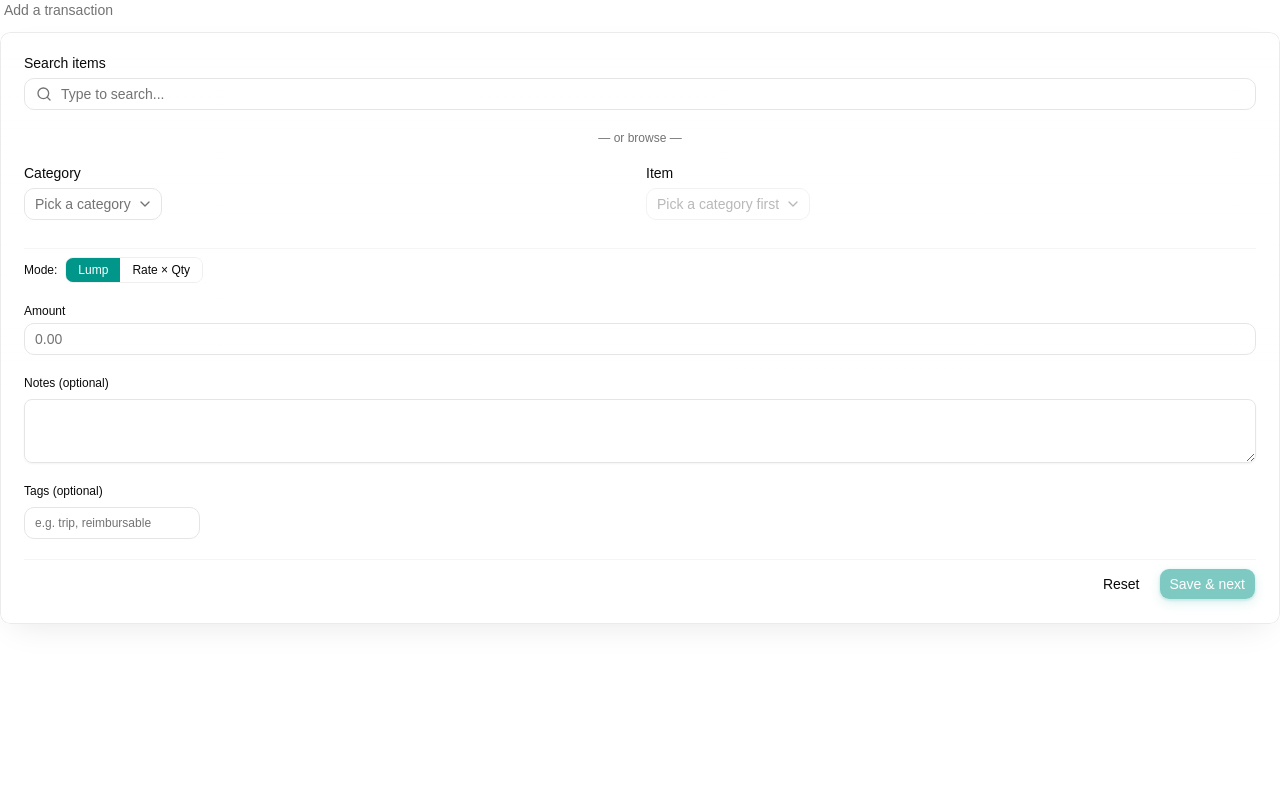
Test case: TransactionEntryForm inline item creation › creates the item, selects it, and focuses the amount without submitting the transaction
Type "Chai" into the field labelled "Search items". click: (640, 94)
box: [24,78,1256,110]
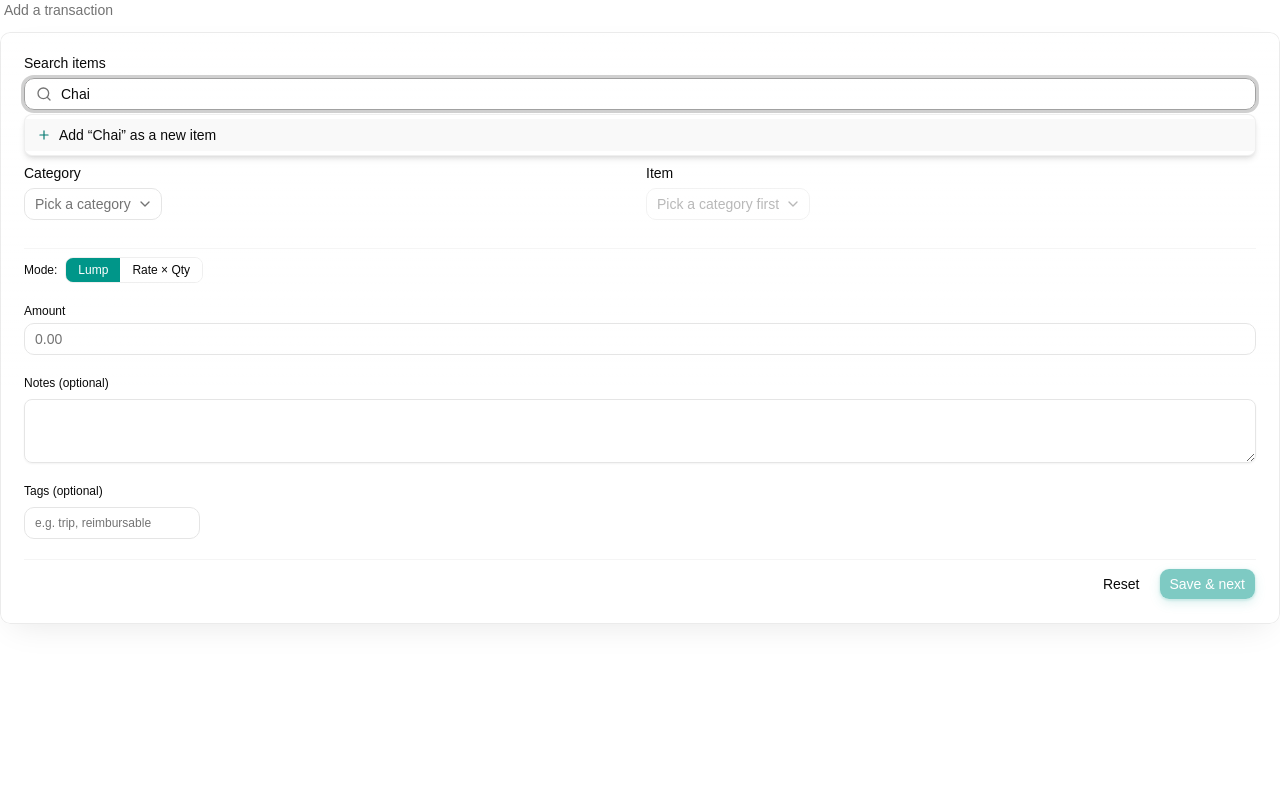
Press Enter
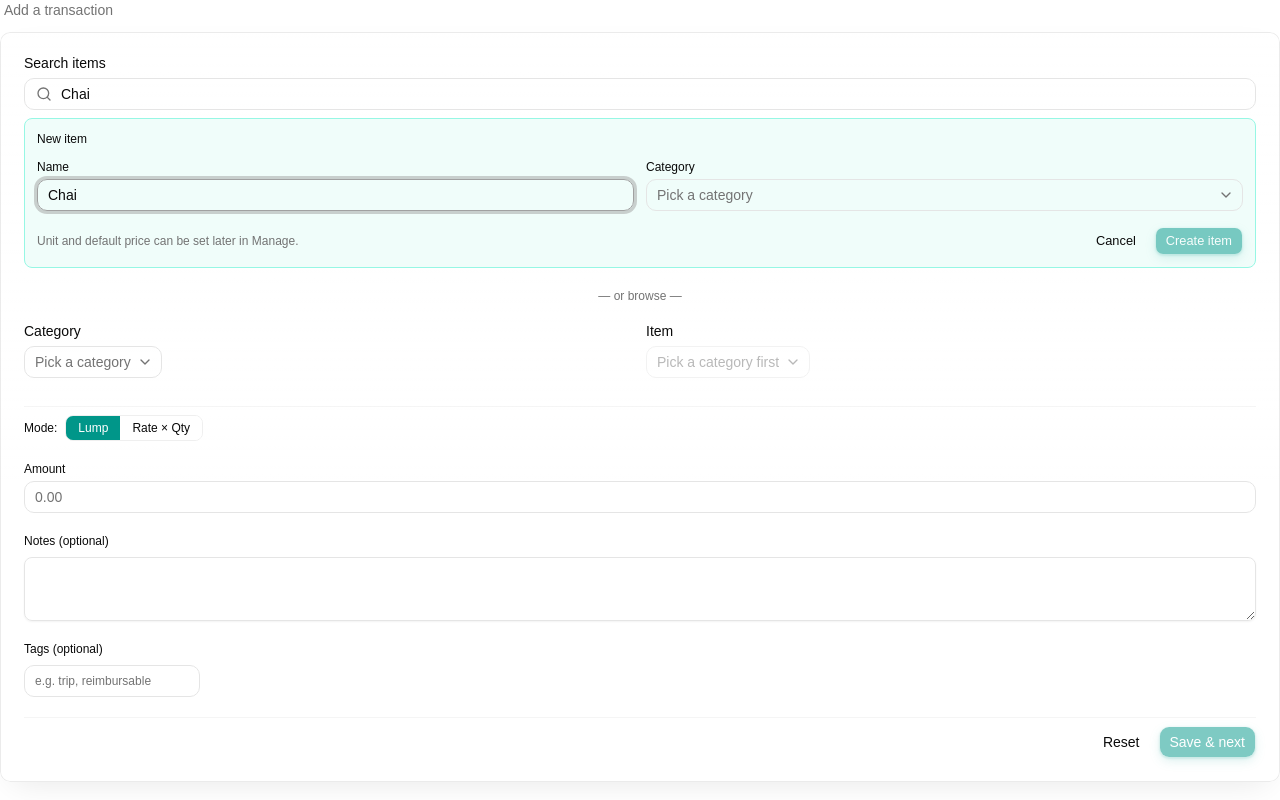
Expected: the field labelled "Name" holds "Chai", [37,179,634,211]
Click the 1st dropdown labelled "Pick a category". click: click(705, 195)
box: [646,179,1243,211]
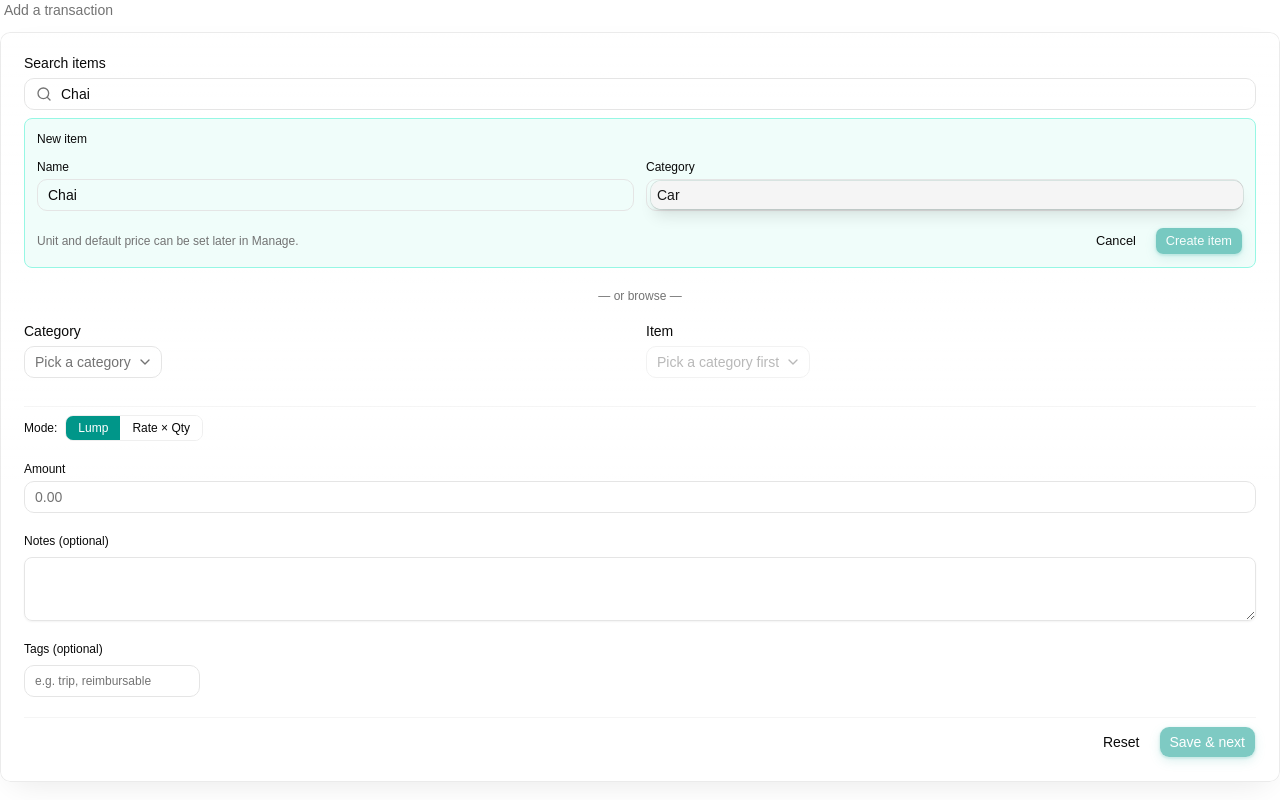
Click the option "Car". click: click(668, 195)
box: [651,181,1243,209]
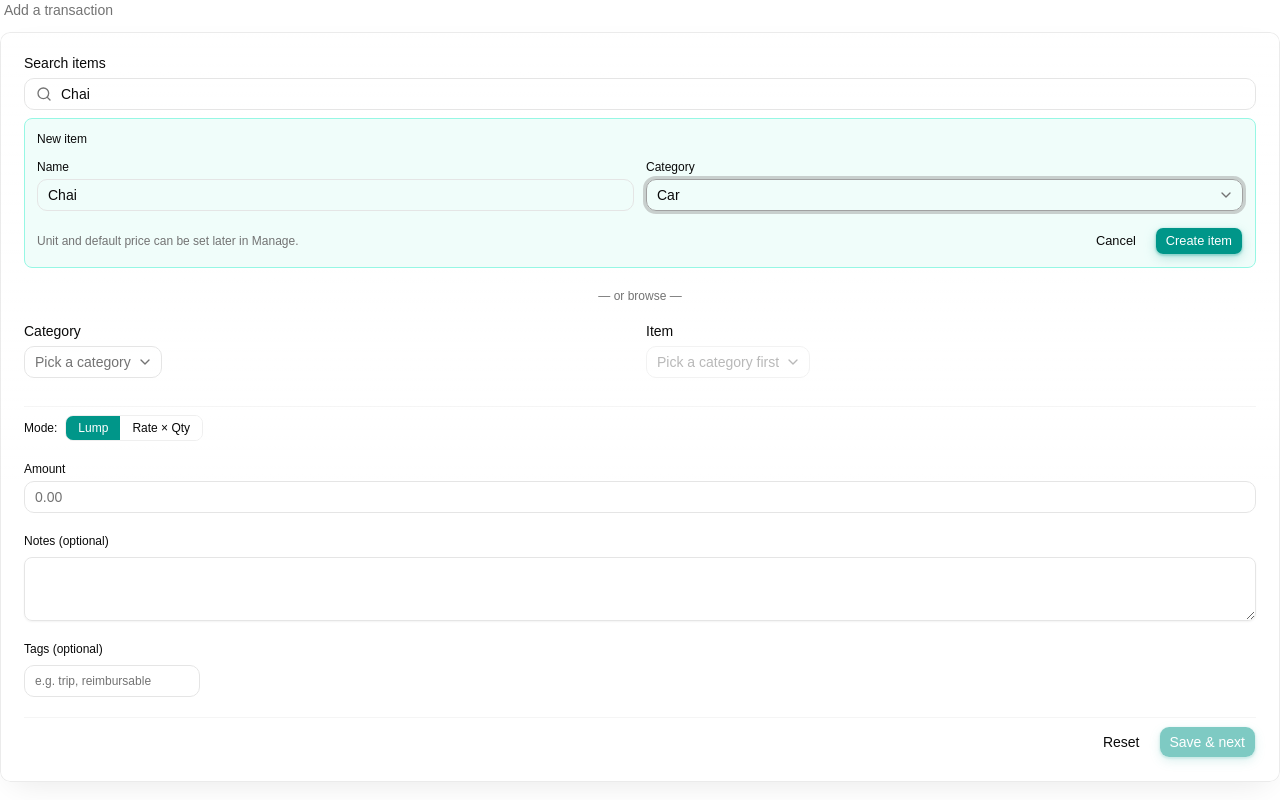
Click the field labelled "Name". click: click(336, 195)
box: [37,179,634,211]
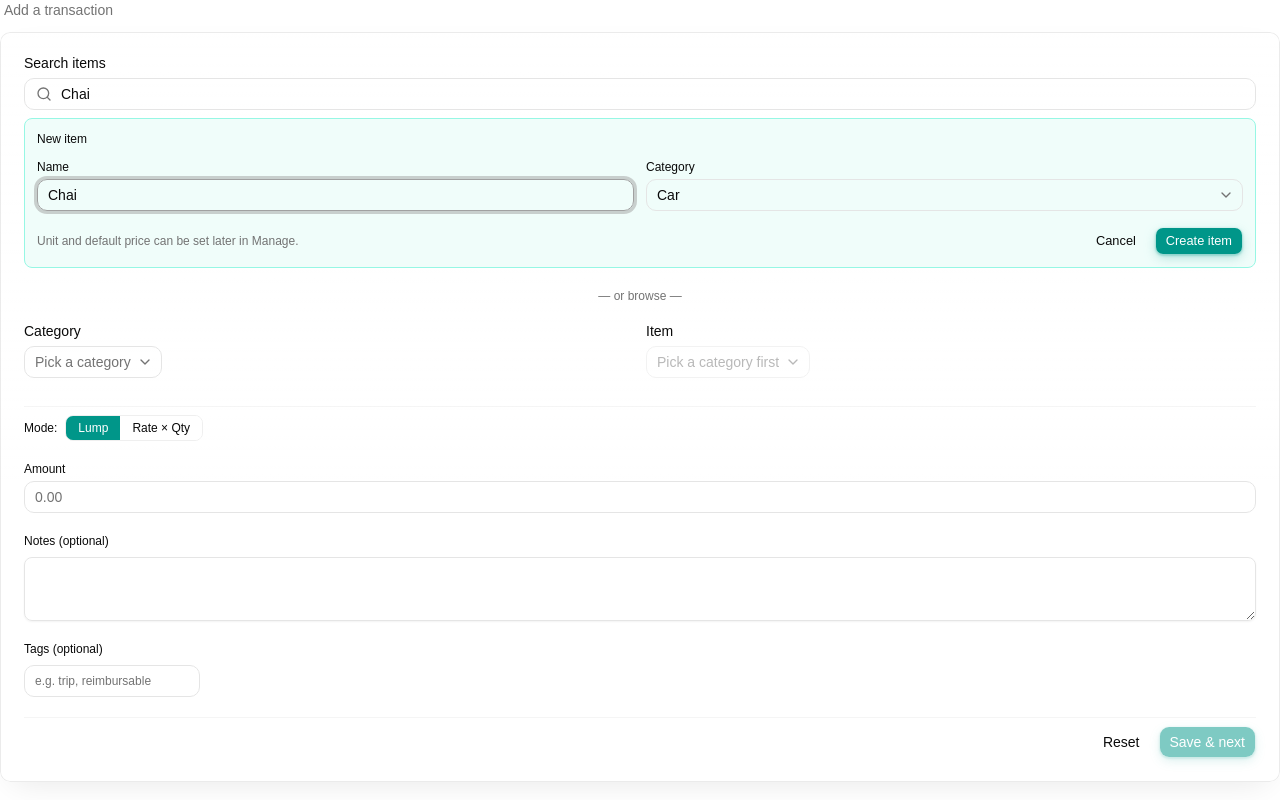
Press Enter
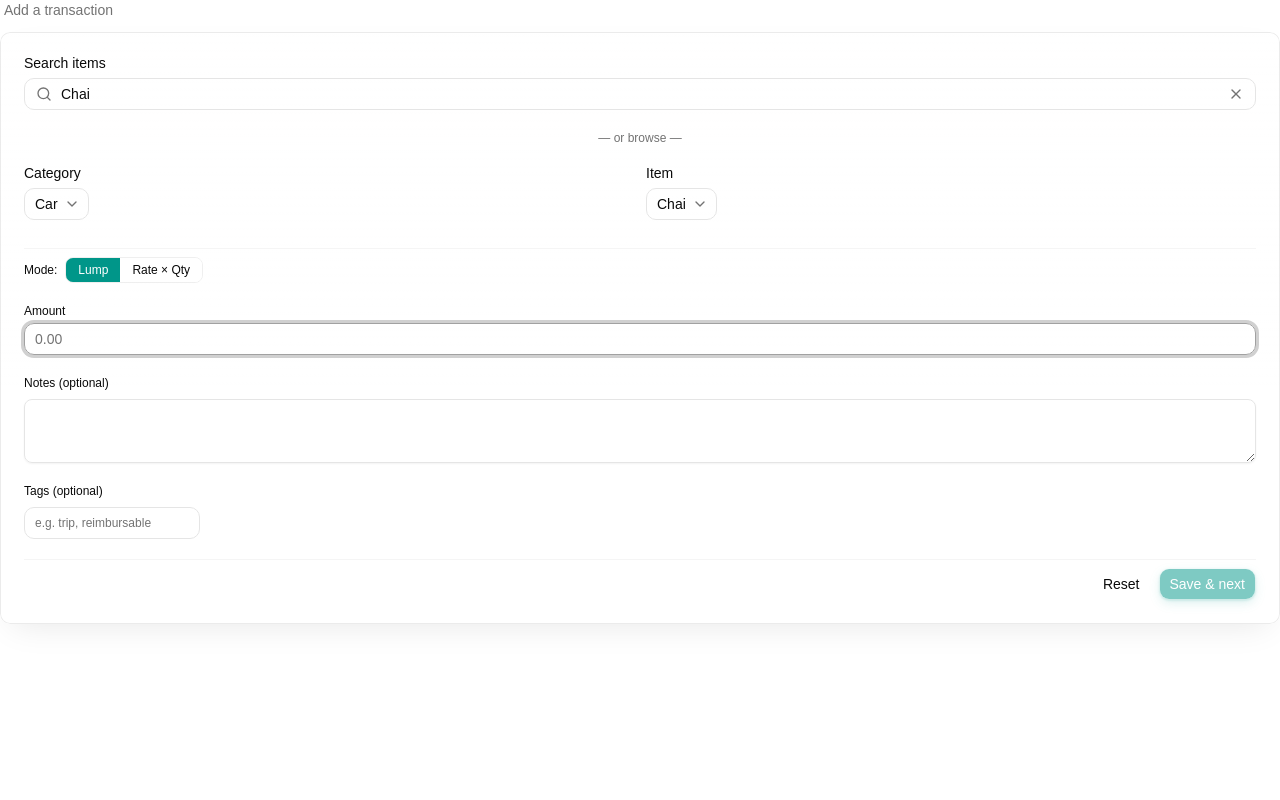
Expected: the label labelled "Name" is gone
